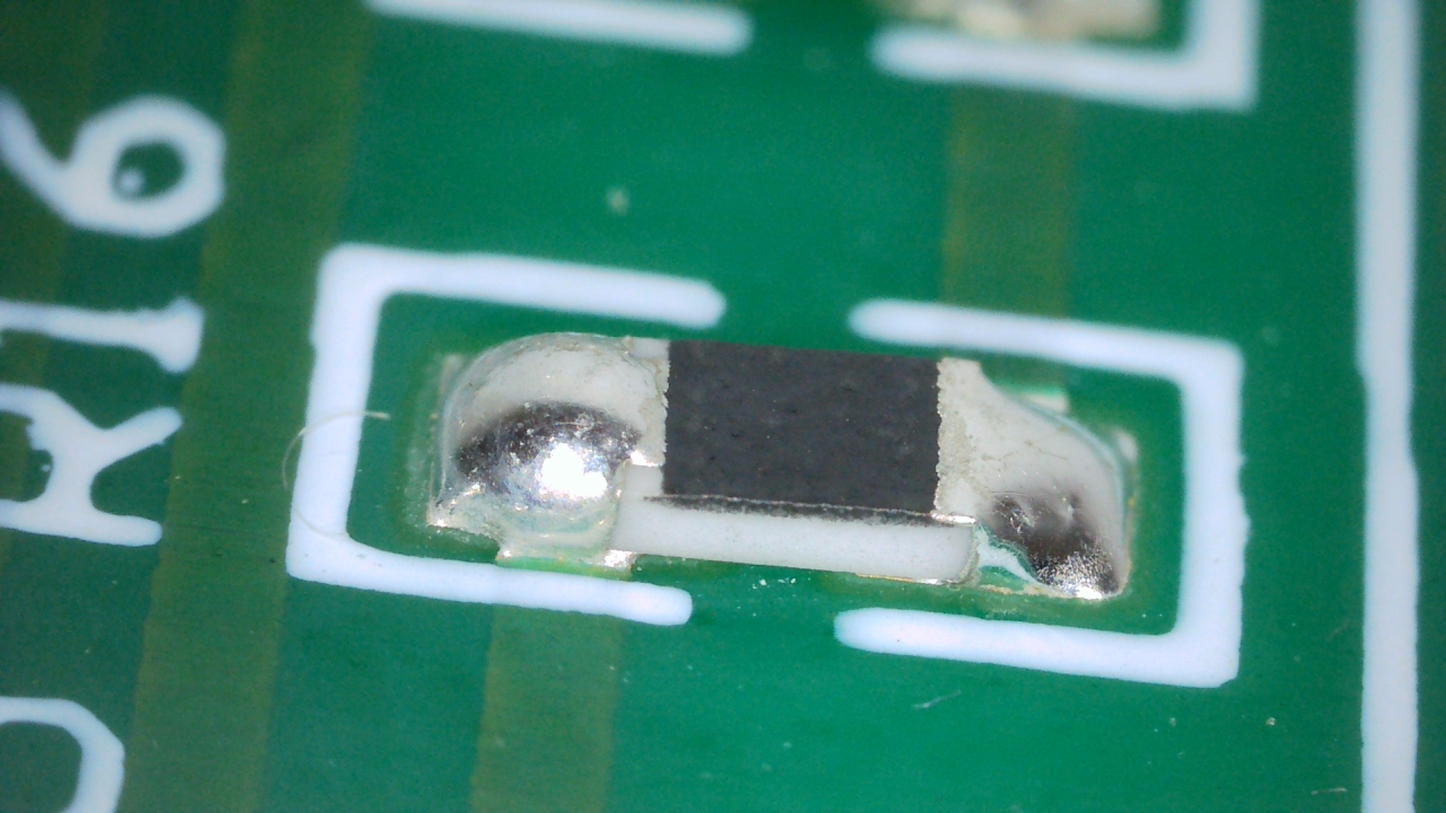NG: (431, 334, 669, 568), (934, 359, 1134, 603)
